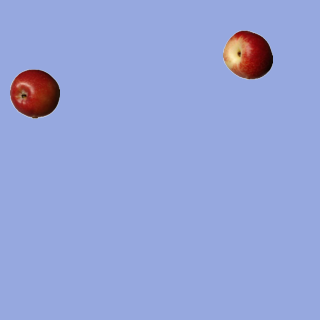Apple Braeburn: (9, 68, 59, 118)
Nectarine: (222, 29, 272, 79)
